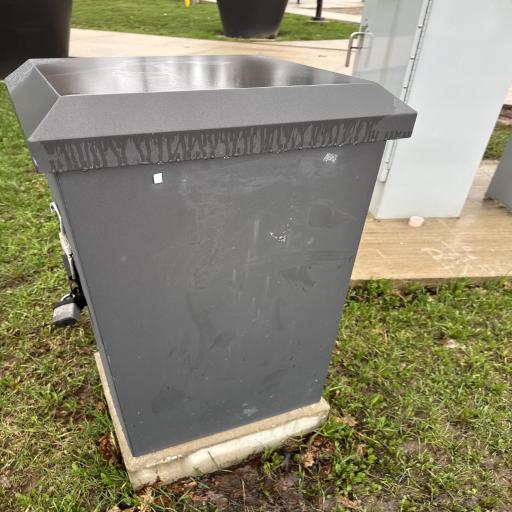Electrical Box: (2, 54, 419, 458)
